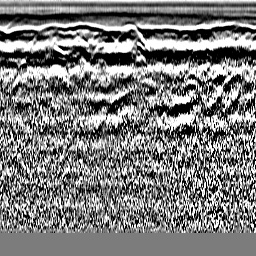cavity: (112, 21, 148, 51)
